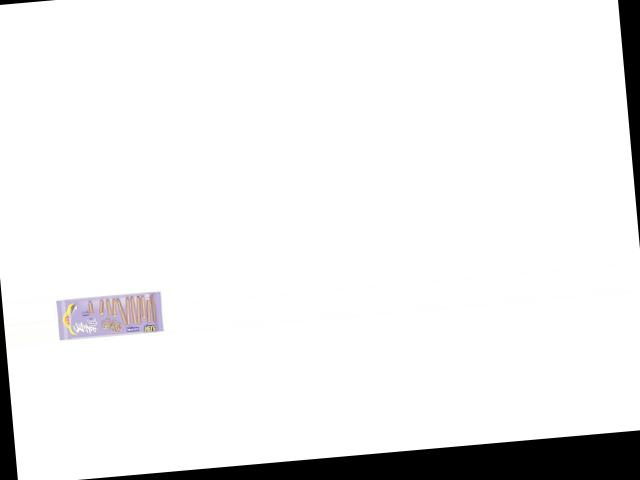chocolate: (54, 285, 166, 341)
